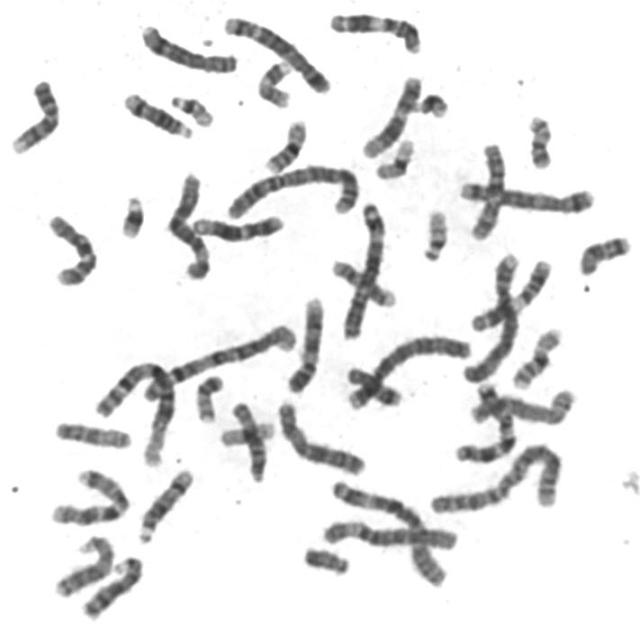A1: (133, 316, 301, 405), (90, 352, 181, 468)
A2: (425, 437, 569, 516), (222, 157, 366, 221)
A3: (325, 472, 454, 589), (338, 195, 390, 342)
B4: (341, 328, 476, 412), (459, 245, 526, 385)
B5: (218, 7, 336, 96), (456, 174, 600, 217)
C10: (466, 135, 512, 242), (42, 207, 102, 289)
C11: (466, 252, 556, 334), (325, 5, 427, 55)
C12: (358, 68, 427, 161), (186, 207, 288, 243)
C6: (317, 512, 463, 553), (163, 166, 215, 281)
C7: (449, 376, 522, 466), (45, 462, 135, 528)
C8: (136, 17, 243, 75), (467, 381, 581, 428)
C9: (5, 72, 64, 156), (282, 288, 328, 395)
D13: (76, 550, 148, 622), (49, 529, 119, 600)
D14: (134, 461, 199, 546), (119, 85, 197, 140)
D15: (226, 393, 271, 484), (50, 414, 136, 451)
E16: (508, 320, 567, 391), (260, 112, 312, 175)
E17: (326, 252, 401, 309), (253, 52, 297, 110)
E18: (342, 359, 406, 408), (574, 228, 635, 277)
F19: (370, 132, 419, 182), (215, 413, 280, 448)
F20: (523, 107, 558, 171), (190, 368, 228, 424)
G21: (116, 188, 150, 240), (412, 85, 454, 119)
G22: (417, 202, 453, 263), (165, 88, 218, 128)
X: (273, 394, 371, 478)
Y: (299, 540, 354, 576)
